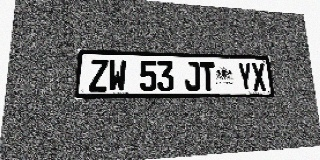3: (157, 61, 174, 92)
5: (140, 60, 157, 92)
J: (184, 61, 201, 91)
T: (200, 62, 216, 91)
W: (108, 59, 126, 92)
X: (251, 63, 267, 91)
Y: (237, 63, 253, 91)
Z: (89, 59, 108, 92)
